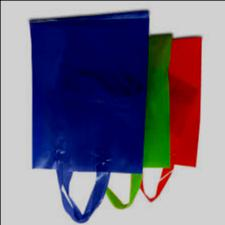Plastic: (19, 5, 149, 224), (104, 32, 171, 211), (138, 35, 203, 205)
